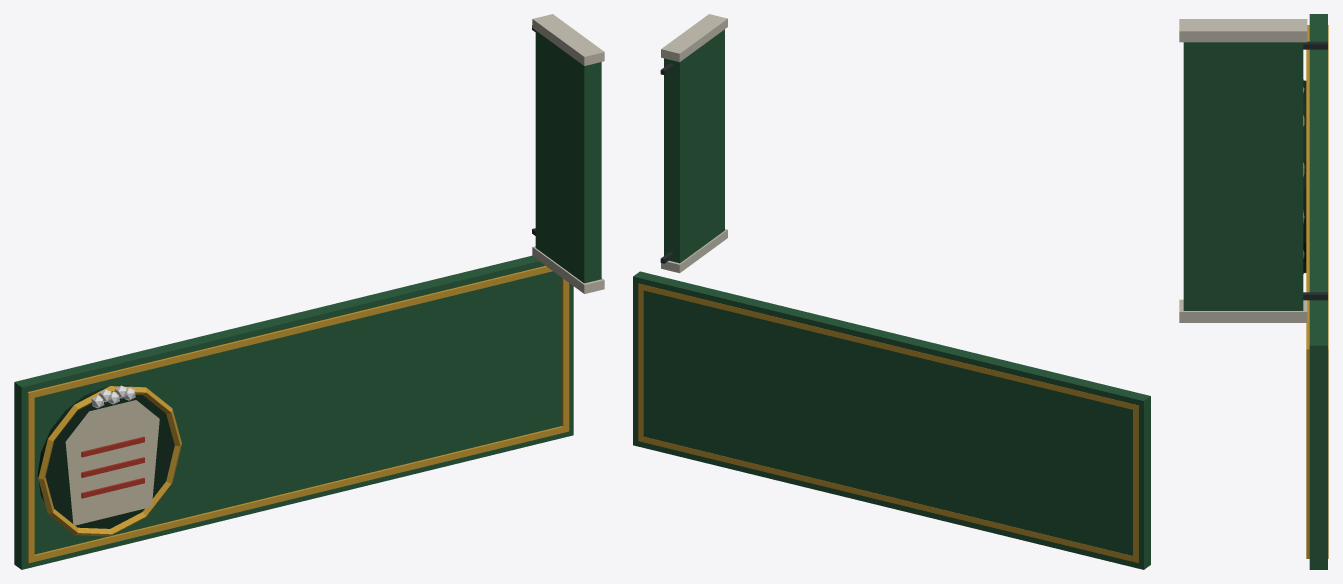
The model's file is bang_tap_hoa_thu_ha_40.glb.
The picture shows the model from 3 angles, left to right: view 1: azimuth 30°, elevation 25°; view 2: azimuth 150°, elevation 25°; view 3: azimuth 270°, elevation 25°; orthographic projection. The views are drawn at different scales.
Parts seen in each view (by area): view 1: bang_tap_hoa_thu_ha_40; view 2: bang_tap_hoa_thu_ha_40; view 3: bang_tap_hoa_thu_ha_40.
Boxes of the visible parts, <box> form: bang_tap_hoa_thu_ha_40: <box>14,14,604,569</box>; bang_tap_hoa_thu_ha_40: <box>633,14,1150,569</box>; bang_tap_hoa_thu_ha_40: <box>1179,14,1328,569</box>.
Size of the model in its own units: 3.8 by 2.81 by 0.722.
